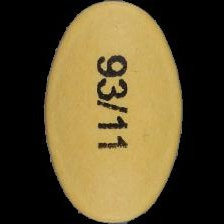33358-536: (0, 0, 224, 224)
